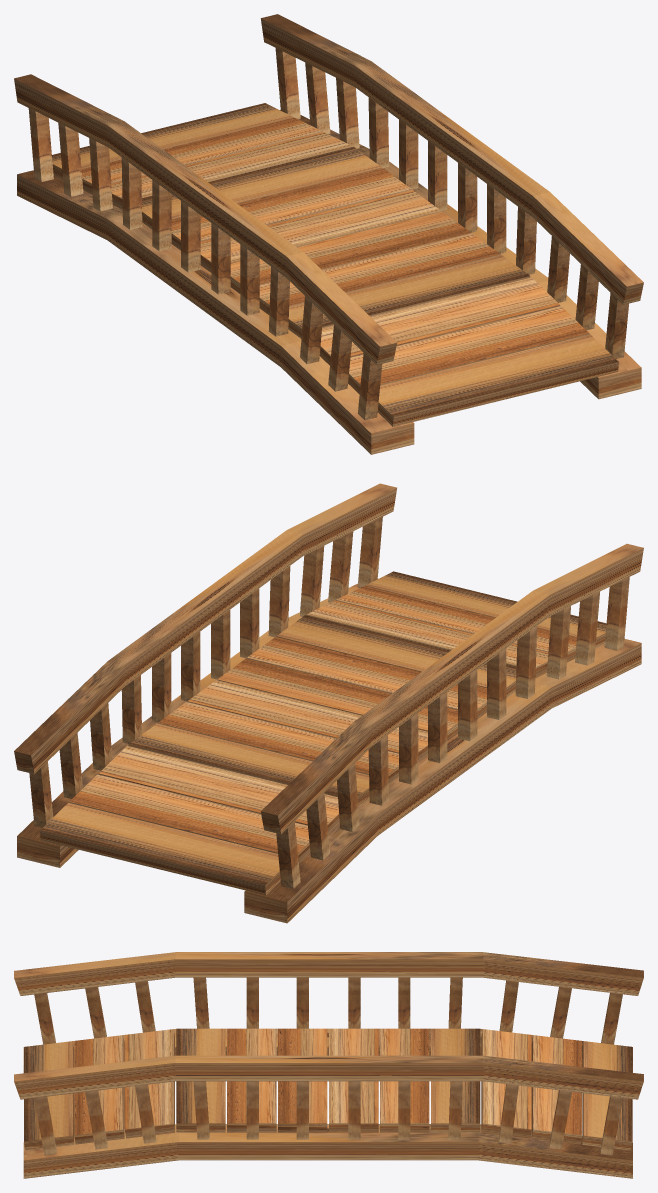
The model's file is bridge_minigame_1.fbx.
3 renders of one model, top to bottom at view 1: azimuth 30°, elevation 25°; view 2: azimuth 150°, elevation 25°; view 3: azimuth 270°, elevation 25°, orthographic. The views are drawn at different scales.
Parts seen in each view (by area): view 1: BridgeFrame; view 2: BridgeFrame; view 3: BridgeFrame.
Part boxes in pixels (x1,y1,x2,y2): BridgeFrame: (14,14,643,454); BridgeFrame: (14,483,643,923); BridgeFrame: (14,952,643,1178).
Bounding box in the file's own units: 528 × 249 × 1239.
Materials: 10 (10 with a texture image).
